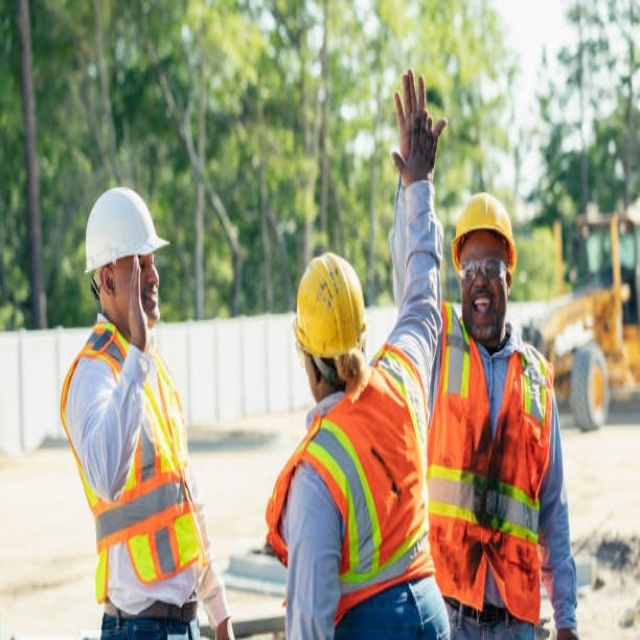Gafas: (456, 260, 510, 284)
Sin_gafas: (139, 249, 159, 276)
Sin_guantes: (391, 71, 448, 186), (128, 247, 152, 352)
Sin_mascara: (468, 289, 495, 329), (141, 281, 160, 318)
